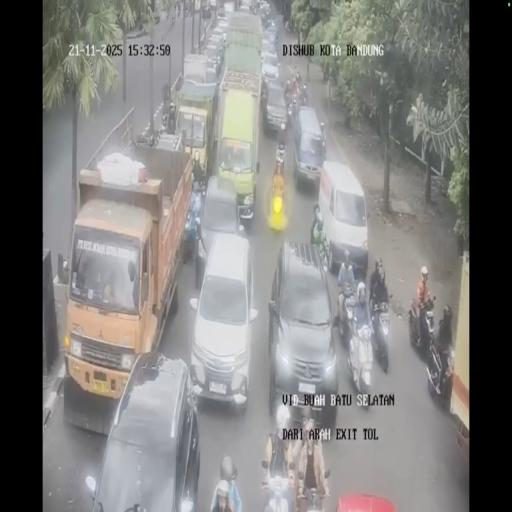car: (88, 351, 200, 509), (267, 242, 338, 427), (197, 174, 244, 282), (292, 106, 327, 188), (263, 80, 288, 136), (203, 40, 225, 80), (262, 26, 278, 63), (216, 16, 230, 40), (216, 2, 228, 19), (239, 0, 252, 13), (152, 2, 160, 23), (260, 1, 270, 16), (209, 0, 217, 10)
motorcycle: (346, 315, 374, 401), (410, 294, 438, 358), (368, 291, 390, 372), (296, 464, 332, 512), (315, 230, 330, 272), (161, 94, 176, 131), (288, 90, 300, 120), (260, 72, 268, 104), (300, 82, 308, 106), (183, 4, 189, 18), (170, 9, 175, 25), (284, 20, 290, 33), (176, 3, 180, 18)
truck: (173, 70, 218, 184), (447, 253, 469, 463), (222, 9, 264, 83), (202, 2, 212, 18), (194, 0, 201, 12)
